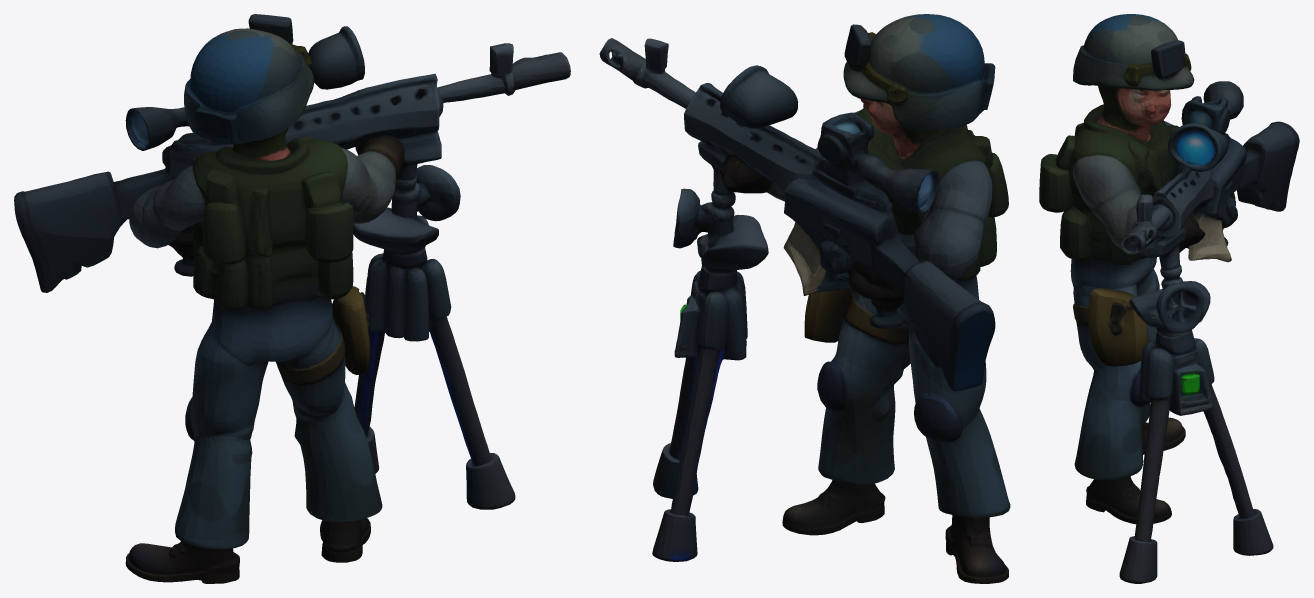
3 views of the same model, side by side, from view 1: azimuth 30°, elevation 25°; view 2: azimuth 150°, elevation 25°; view 3: azimuth 270°, elevation 25° (orthographic). The views are drawn at different scales.
Visible parts, largest first — view 1: world; view 2: world; view 3: world.
Boxes of the visible parts, x1=… form: world: x1=14, y1=14, x2=570, y2=583; world: x1=599, y1=14, x2=1010, y2=583; world: x1=1039, y1=14, x2=1299, y2=583.
Bounding box in the file's own units: 0.9312 × 1 × 0.5201.
Materials: 1 (1 with a texture image).
